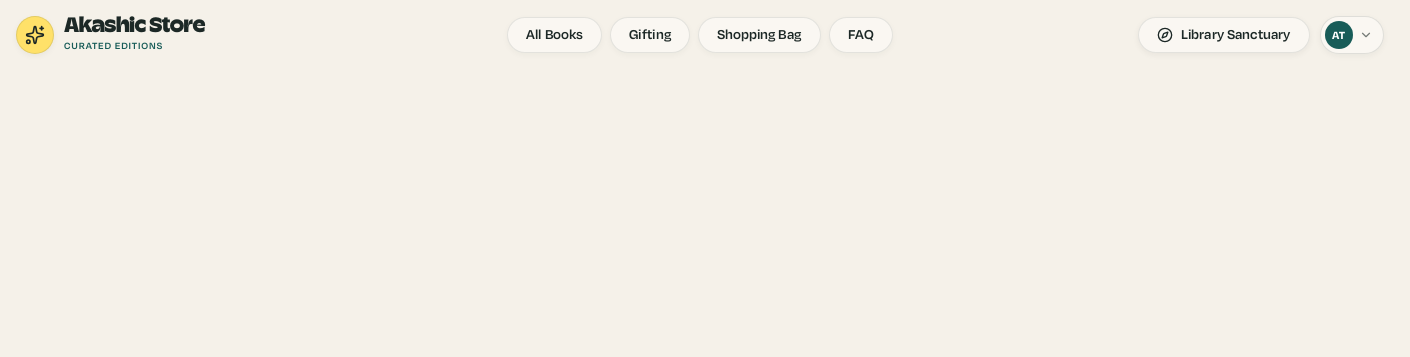
it: StoreHeader Component › displays authenticated user pill and opens dropdown menu on click
# Click to open dropdown
What coordinates should you click on to do the following:
click the button with aria-label "Account menu for Athena Curates"
I would click on:
 (1352, 35)
Its box is [1320, 16, 1384, 54].
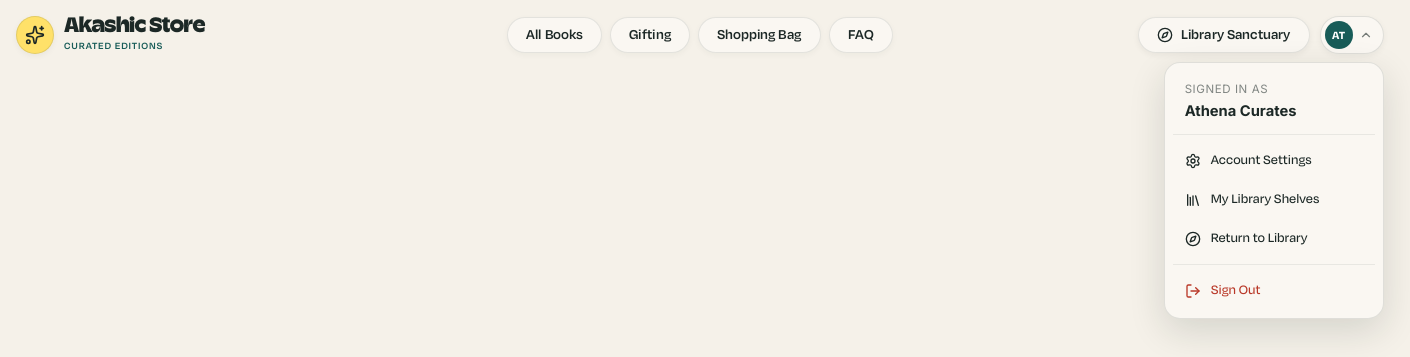
Result: the button with aria-label "Account menu for Athena Curates" is expanded at [1320, 16, 1384, 54]
Result: the menu named "User account menu" is shown at [1164, 62, 1384, 320]
Result: the text "Athena Curates" is shown at [1185, 102, 1297, 120]
